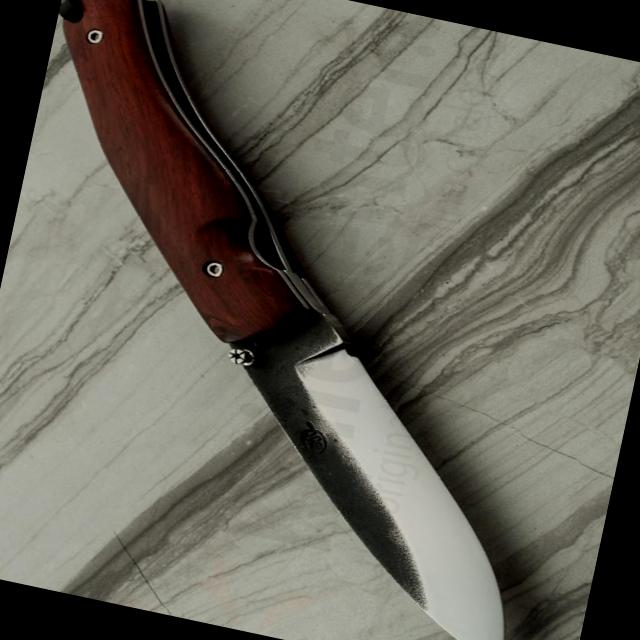knife: (149, 263, 586, 639)
